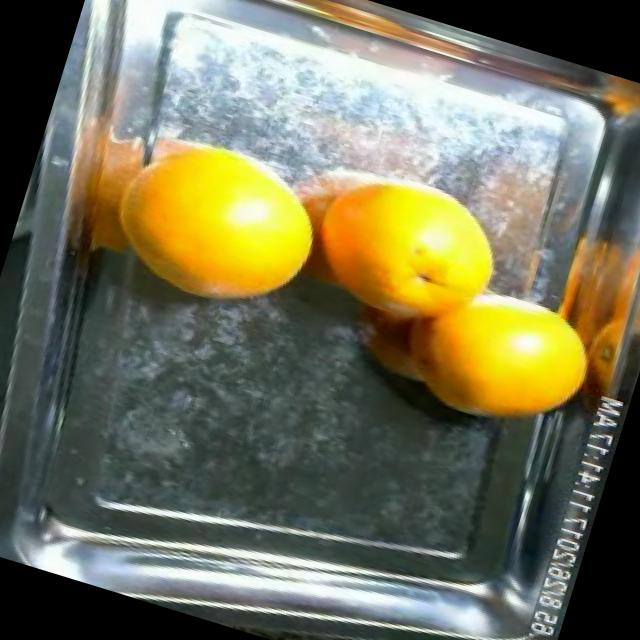Fruit: (85, 104, 351, 346), (378, 258, 620, 467)
